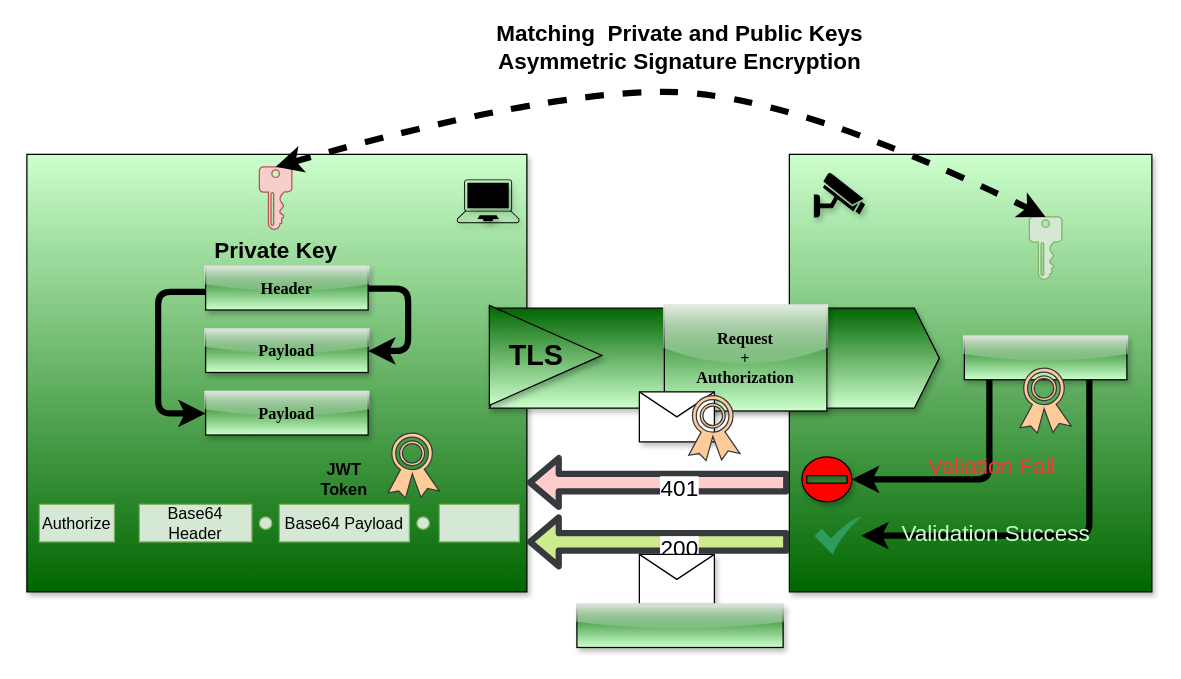
Image size: 1181x679. Some labels were removed from this diagram. Each missing label, with the centre of its shape:
Camera Info / Camera Images: point (681, 627)
Public Key: point (1045, 247)
Request Validation: point (1046, 359)
Signature: point (478, 522)
